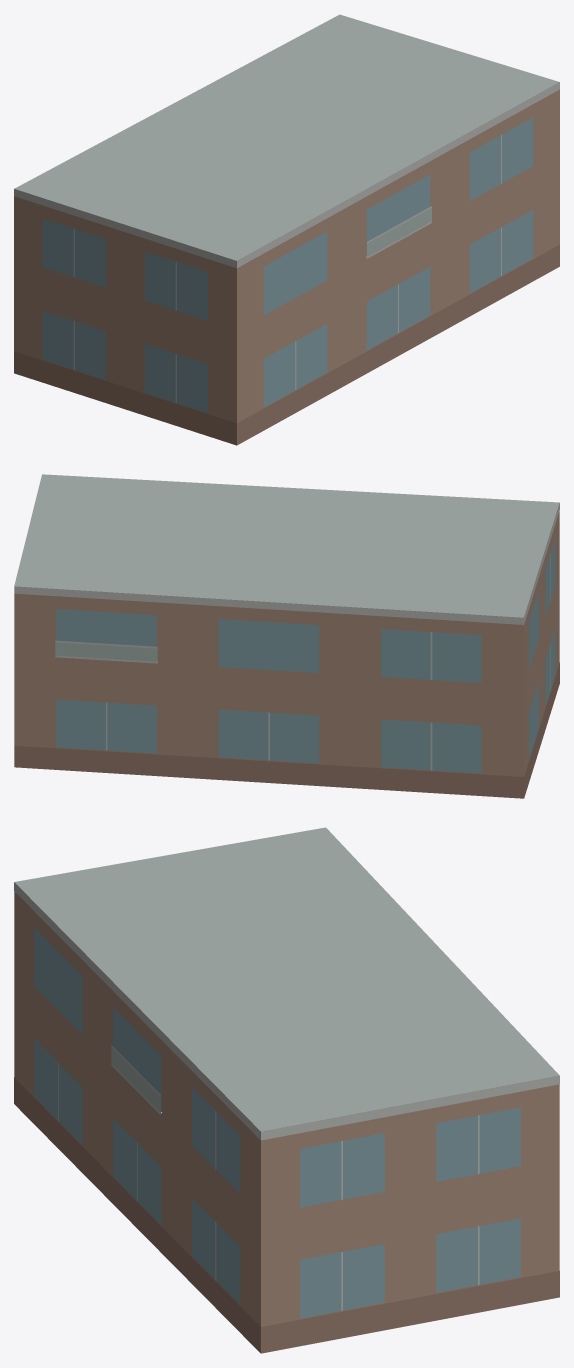
Rendered from survey-upis-32853913.glb.
The picture shows the model from 3 angles, top to bottom: view 1: azimuth 30°, elevation 25°; view 2: azimuth 150°, elevation 25°; view 3: azimuth 270°, elevation 25°; orthographic projection. The views are drawn at different scales.
Parts seen in each view (by area): view 1: survey-upis-32853913.tmp; view 2: survey-upis-32853913.tmp; view 3: survey-upis-32853913.tmp.
Boxes of the visible parts, <box> form: survey-upis-32853913.tmp: <box>14,14,559,445</box>; survey-upis-32853913.tmp: <box>14,474,559,798</box>; survey-upis-32853913.tmp: <box>14,827,559,1353</box>.
Size of the model in its own units: 17.95 by 6.1 by 13.61.
